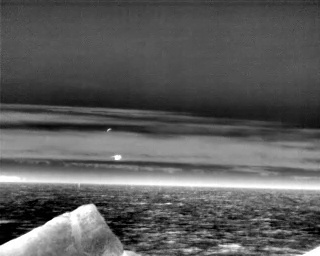HELICOPTER: (109, 151, 125, 165)
